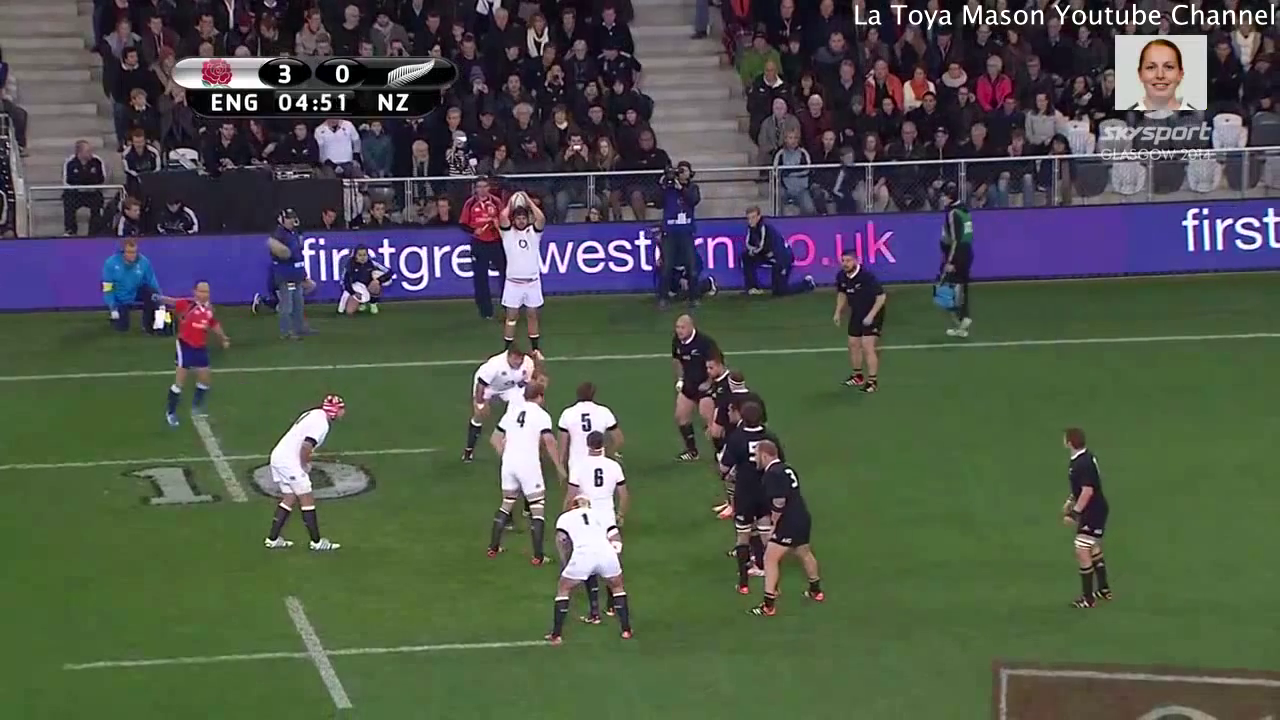10_metre: (52, 587, 587, 720), (1, 400, 451, 516)
ball: (506, 183, 533, 215)
player: (245, 380, 359, 561), (1043, 420, 1133, 624), (743, 431, 833, 626), (141, 265, 242, 432), (481, 378, 569, 568), (537, 493, 640, 648), (486, 181, 555, 372), (823, 242, 895, 402), (461, 337, 541, 469), (657, 311, 727, 461), (547, 374, 627, 501), (729, 394, 775, 609), (561, 431, 637, 561), (695, 348, 730, 470), (716, 369, 774, 408), (721, 393, 741, 447)
